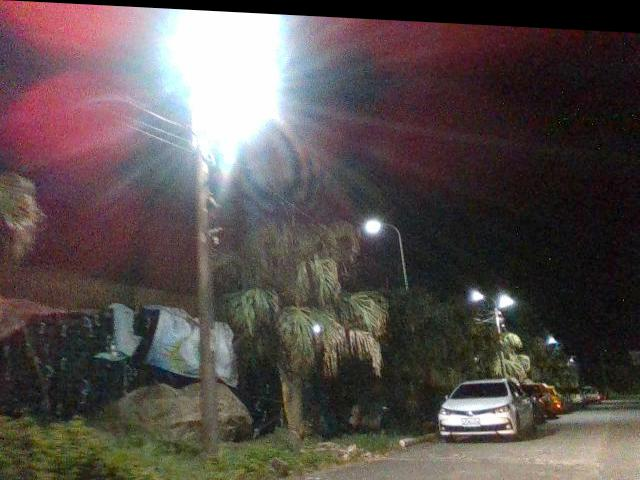pollute: (2, 292, 263, 449)
